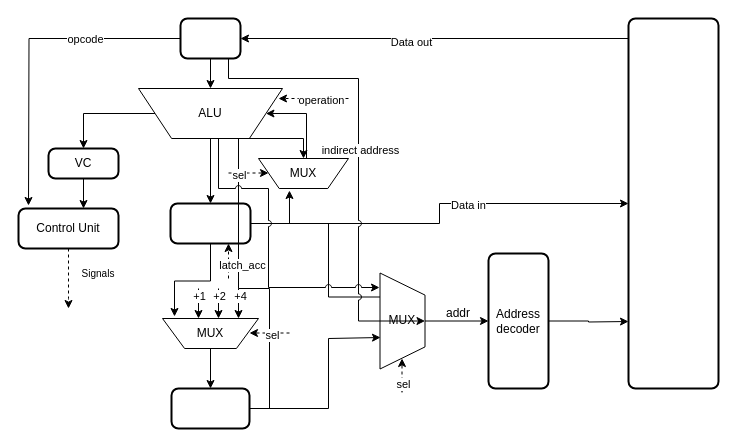
The diagram is 736 pixels wide and 446 high, and some of its shapes have lost their labels. The shapes that lost their labels are listed below. From the top down, each one's centre as x and y in pixels, then its label:
the point at 210,38: DR
the point at 210,223: ACC
the point at 673,203: MEMORY
the point at 210,408: PC
